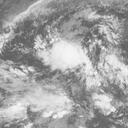cyclone: (48, 41, 84, 72)
